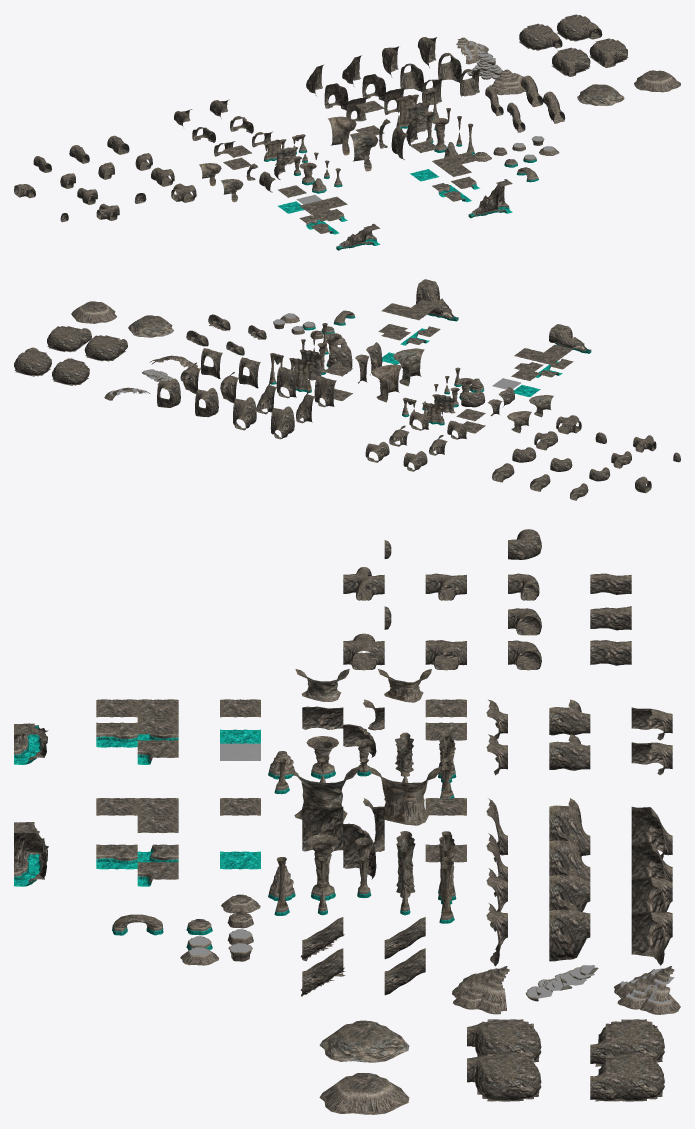
File: port_cave_set.FBX
3 views of the same model, one above another, from view 1: azimuth 30°, elevation 25°; view 2: azimuth 150°, elevation 25°; view 3: azimuth 270°, elevation 25° (orthographic). The views are drawn at different scales.
Visible parts, largest first — view 1: port_cave Room 13m Left Hall Entrance, port_cave Room 13m Left Passage Entrance, port_cave Room 13m Right Hall Entrance, port_cave Room 13m Right Passage Entrance, port_cave Room2x River Exit, port_cave Room Raised Platform 01, port_cave Room Raised Platform 02, port_cave Room2x Contour Addition 02, port_cave Room2x Contour Addition 01, port_cave Room2x Flowstone Stairs Straight, port_cave Room River Exit, port_cave Room2x Wall Corner Right to Hall High (+23 smaller); view 2: port_cave Room 13m Right Hall Entrance, port_cave Room 13m Right Passage Entrance, port_cave Room 13m Left Hall Entrance, port_cave Room 13m Left Passage Entrance, port_cave Room2x River Exit, port_cave Room Raised Platform 02, port_cave Room Raised Platform 01, port_cave Room2x Contour Addition 02, port_cave Room2x Contour Addition 01, port_cave Room River Exit, port_cave Room2x Wall Corner Left to Passage, port_cave Room2x Wall CornerLeft to Hall (+27 smaller); view 3: port_cave Room 13m Right Hall Entrance, port_cave Room 13m Left Hall Entrance, port_cave Room Raised Platform 01, port_cave Room Raised Platform 02, port_cave Room 13m Left Passage Entrance, port_cave Room 13m Right Passage Entrance, port_cave Room2x Contour Addition 02, port_cave Room2x Wall Corner Right to Hall High, port_cave Room2x Flowstone Stairs Straight, port_cave Room2x River Exit, port_cave Room2x Flowstone Stairs Corner Left, port_cave Room2x Wall Corner Left to Hall High (+38 smaller).
Part boxes in pixels (x1,y1,x2,y2): port_cave Room 13m Left Hall Entrance: (557,14,602,41); port_cave Room 13m Left Passage Entrance: (519,23,562,50); port_cave Room 13m Right Hall Entrance: (589,38,628,67); port_cave Room 13m Right Passage Entrance: (552,47,590,76); port_cave Room2x River Exit: (468,179,512,218); port_cave Room Raised Platform 01: (577,84,624,105); port_cave Room Raised Platform 02: (634,70,680,92); port_cave Room2x Contour Addition 02: (328,116,356,155); port_cave Room2x Contour Addition 01: (349,132,378,171); port_cave Room2x Flowstone Stairs Straight: (485,69,525,95); port_cave Room River Exit: (336,223,380,250); port_cave Room2x Wall Corner Right to Hall High: (438,53,461,82); port_cave Room 13m Right Hall Entrance: (47,326,91,352); port_cave Room 13m Right Passage Entrance: (84,335,127,361); port_cave Room 13m Left Hall Entrance: (14,347,51,376); port_cave Room 13m Left Passage Entrance: (52,358,89,385); port_cave Room2x River Exit: (416,279,458,321); port_cave Room Raised Platform 02: (71,301,117,323); port_cave Room Raised Platform 01: (128,315,173,337); port_cave Room2x Contour Addition 02: (371,364,402,402); port_cave Room2x Contour Addition 01: (393,348,424,386); port_cave Room River Exit: (549,324,591,353); port_cave Room2x Wall Corner Left to Passage: (270,406,294,439); port_cave Room2x Wall CornerLeft to Hall: (233,397,256,430); port_cave Room 13m Right Hall Entrance: (467,1054,541,1101); port_cave Room 13m Left Hall Entrance: (590,1054,664,1101); port_cave Room Raised Platform 01: (319,1020,409,1062); port_cave Room Raised Platform 02: (319,1073,409,1114); port_cave Room 13m Left Passage Entrance: (590,1019,664,1066); port_cave Room 13m Right Passage Entrance: (467,1019,541,1062); port_cave Room2x Contour Addition 02: (368,766,440,825); port_cave Room2x Wall Corner Right to Hall High: (549,902,590,961); port_cave Room2x Flowstone Stairs Straight: (452,966,509,1014); port_cave Room2x River Exit: (14,822,48,886); port_cave Room2x Flowstone Stairs Corner Left: (614,966,680,1014); port_cave Room2x Wall Corner Left to Hall High: (631,911,672,965).
Size of what is drawn, in the model's own units: 26010 by 1161 by 12960.
12 materials, 11 textured.
